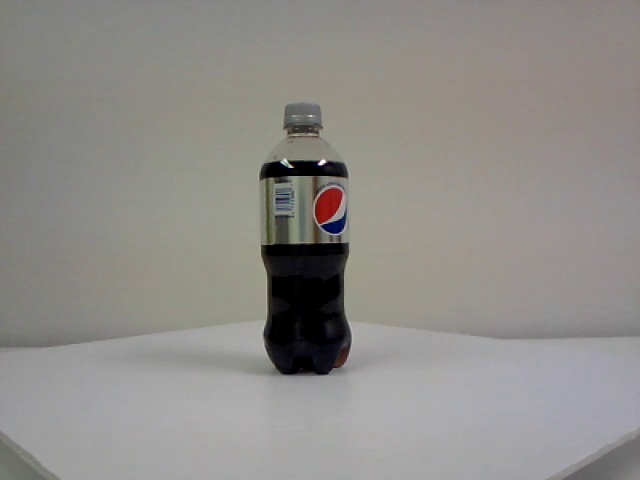botolplastik: (260, 104, 349, 374)
